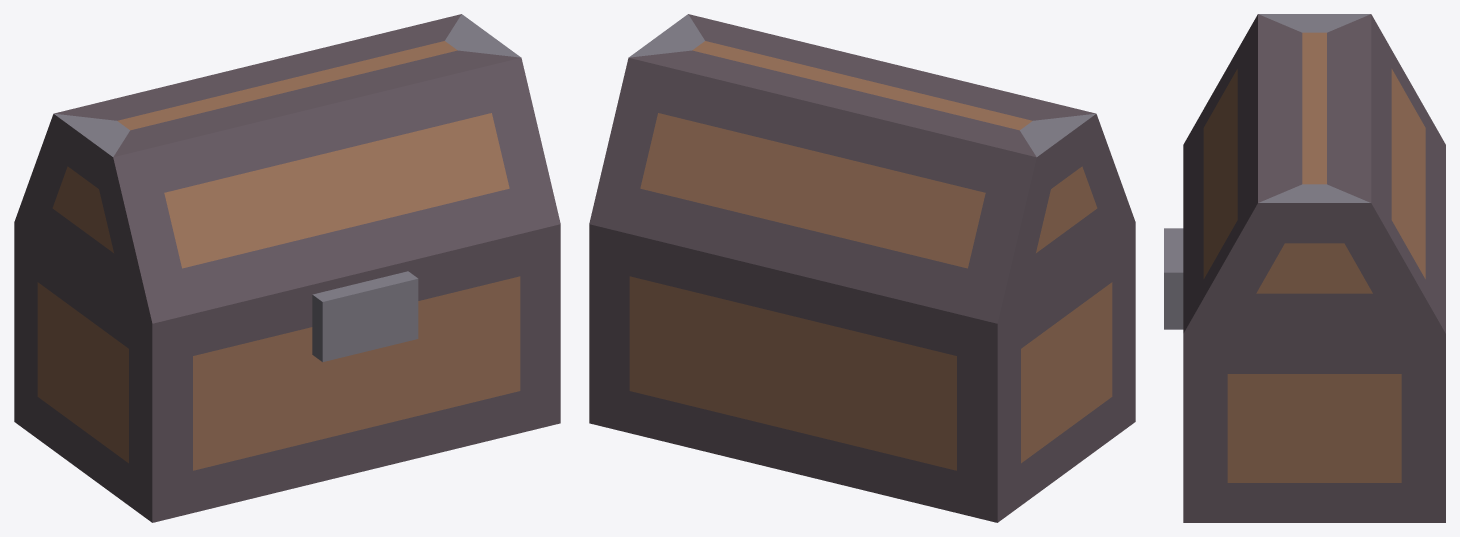
The model's file is TB_Prop_Chest_Sq_Small_B.FBX.
3 renders of one model, left to right at view 1: azimuth 30°, elevation 25°; view 2: azimuth 150°, elevation 25°; view 3: azimuth 270°, elevation 25°, orthographic. The views are drawn at different scales.
Parts seen in each view (by area): view 1: TB_Prop_Chest_Sq_Small_B; view 2: TB_Prop_Chest_Sq_Small_B; view 3: TB_Prop_Chest_Sq_Small_B.
Boxes of the visible parts, <box> form: TB_Prop_Chest_Sq_Small_B: <box>14,14,560,522</box>; TB_Prop_Chest_Sq_Small_B: <box>589,14,1135,522</box>; TB_Prop_Chest_Sq_Small_B: <box>1164,14,1445,522</box>.
Size of the model in its own units: 0.8274 by 0.6524 by 0.521.
